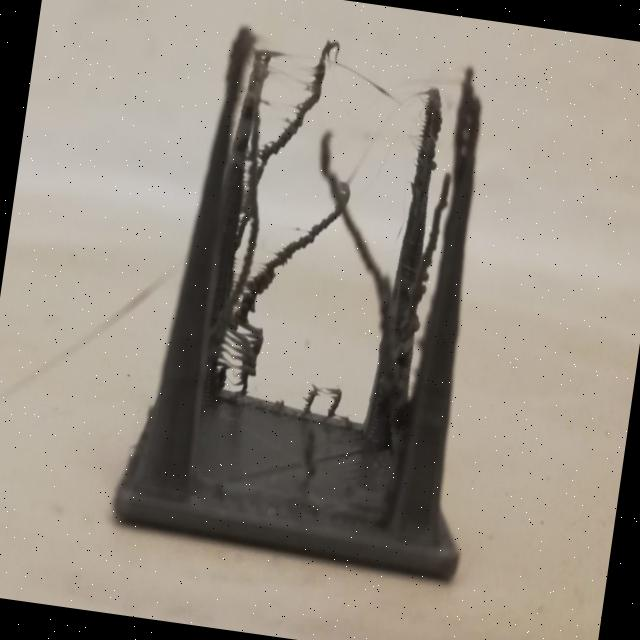stringing: (210, 28, 436, 430)
